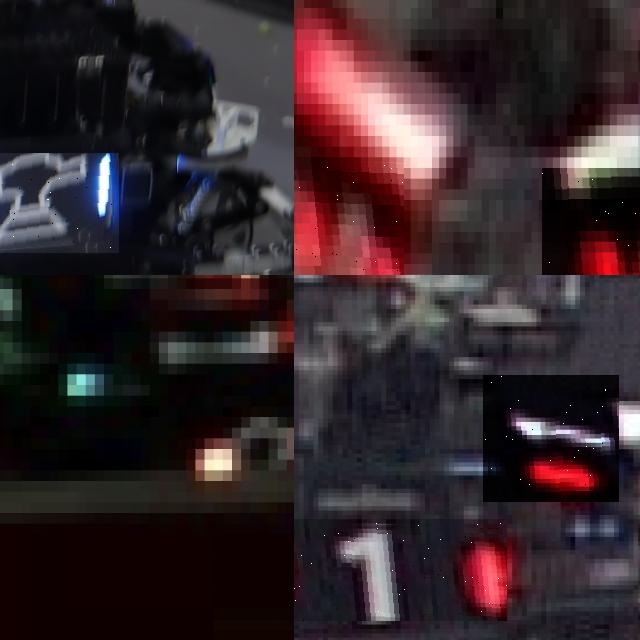Bs: (0, 152, 119, 253)
R1: (294, 519, 507, 620), (483, 375, 619, 502)
R4: (294, 157, 403, 275), (542, 168, 640, 275)
